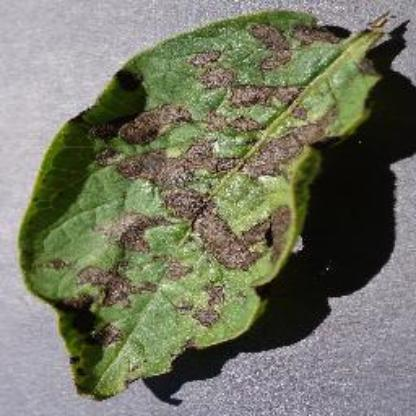Early-Blight: (23, 0, 408, 400)
